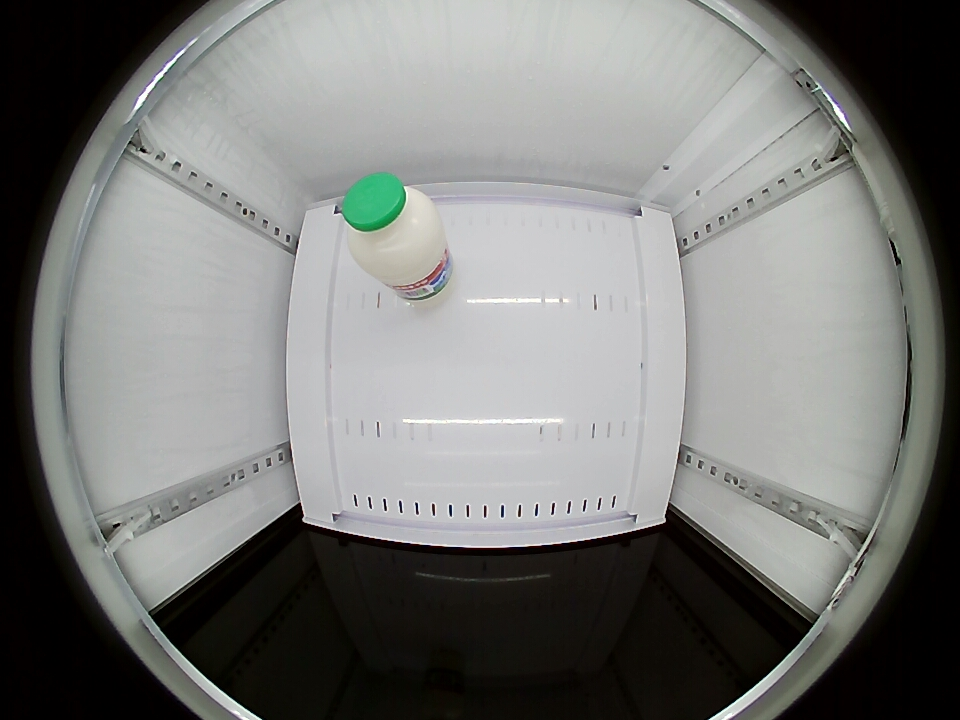liziyuan: (341, 172, 448, 287)
